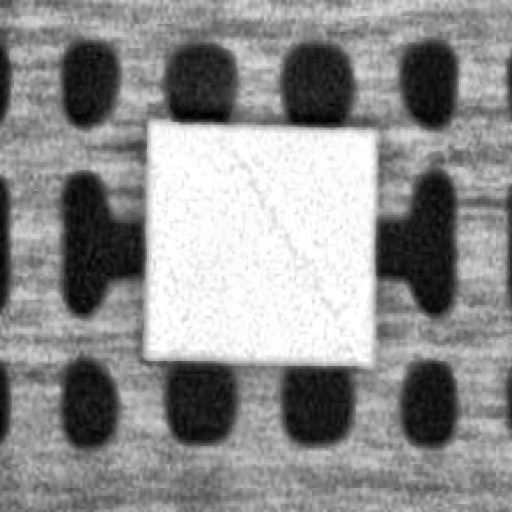DIE_CRACK: (225, 143, 345, 337)
